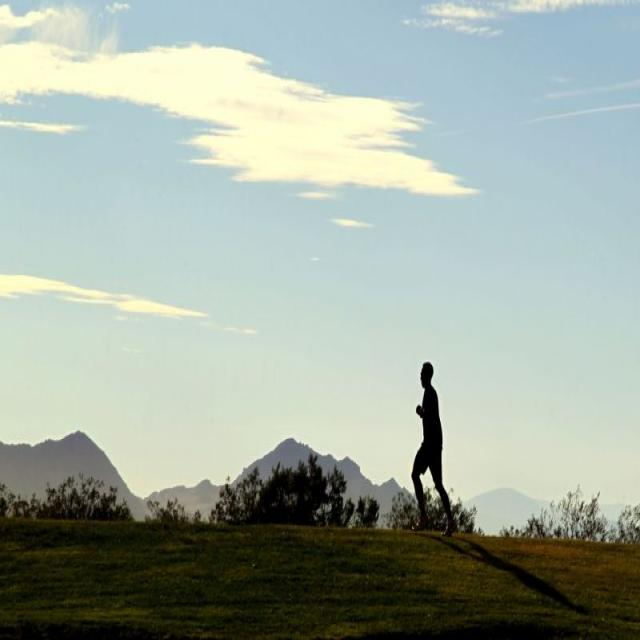running: (411, 361, 461, 533)
